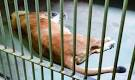lion: (7, 2, 125, 80)
